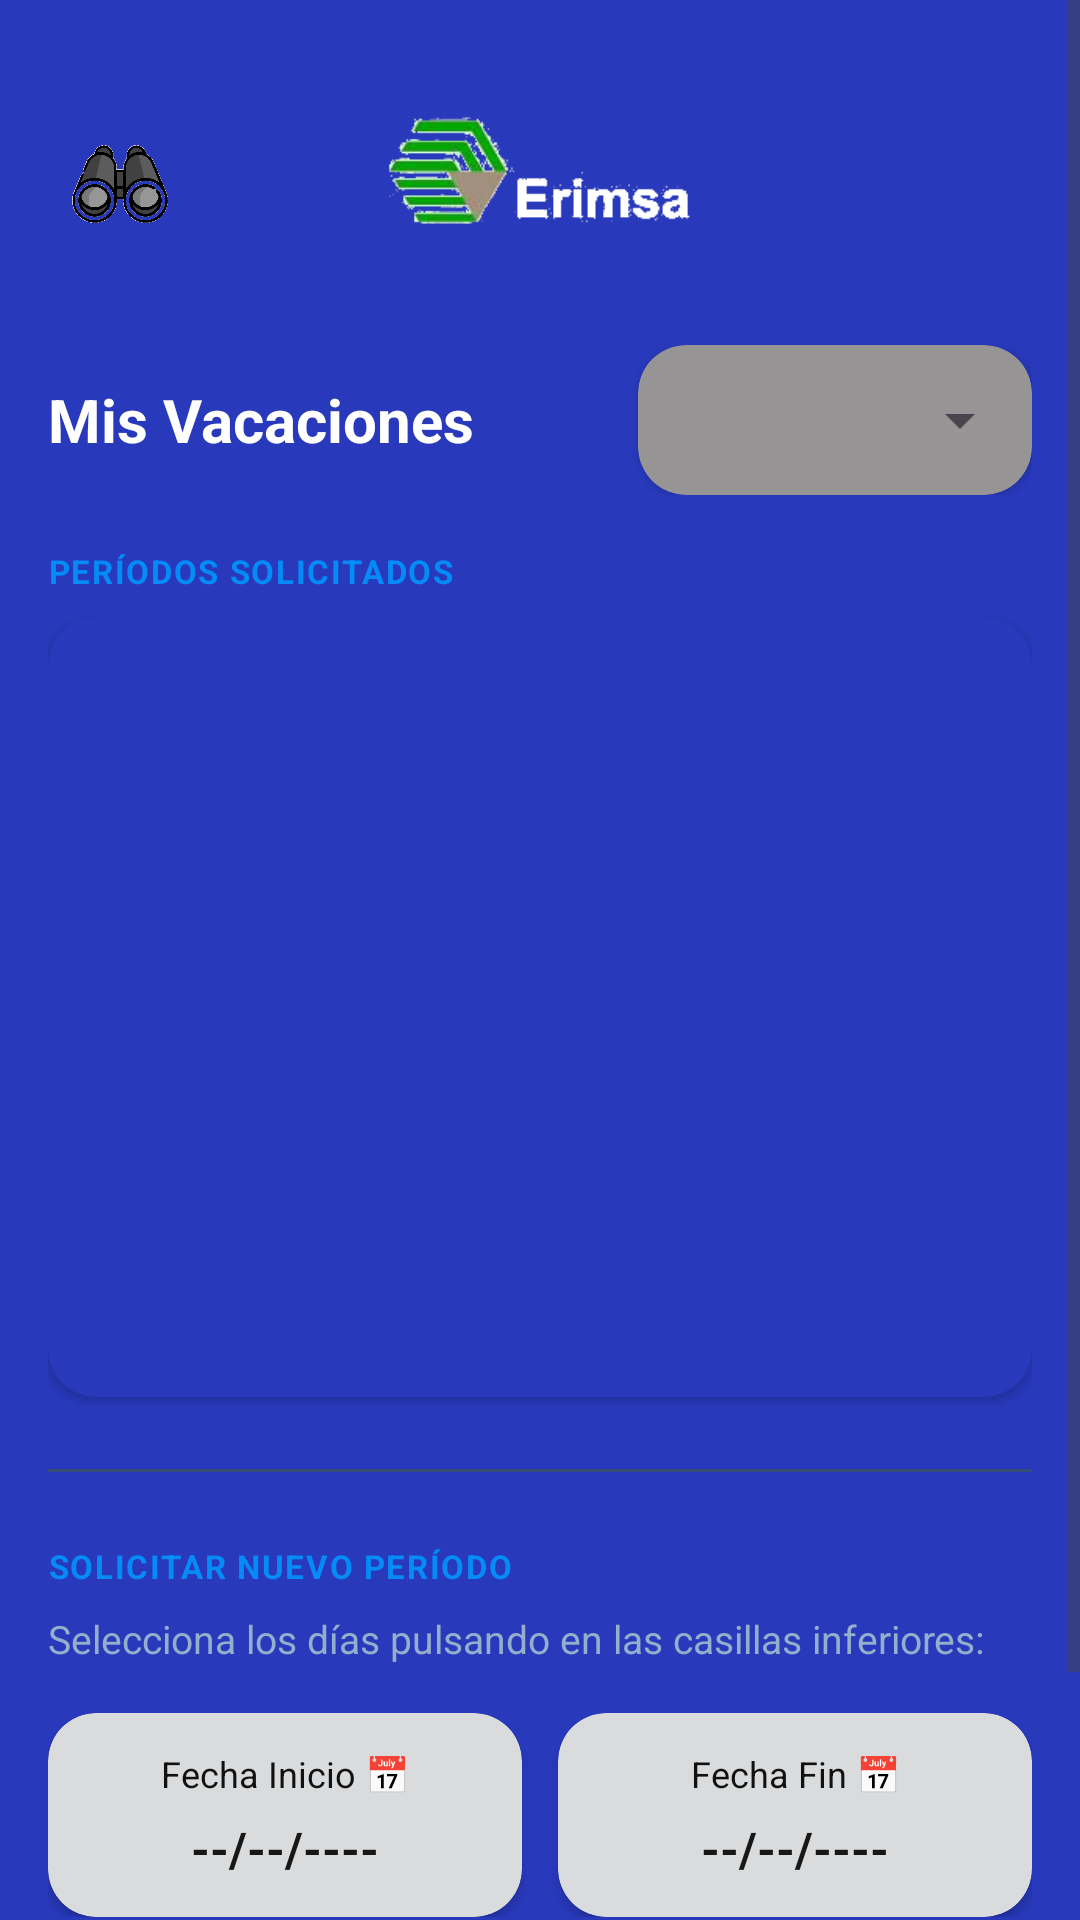

Named icons in this screenshot (1080px×1920px) and their bounding boxes, (x1, y1, x2, y2):
Ver resumen de vacaciones: (72, 145, 168, 223)
